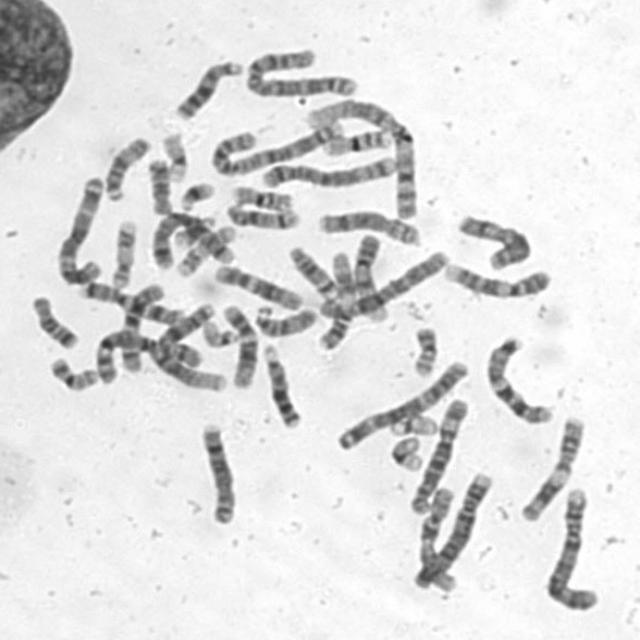A1: (305, 100, 417, 220), (95, 329, 228, 392)
A2: (210, 120, 345, 177), (245, 50, 357, 96)
A3: (338, 360, 470, 450), (56, 176, 105, 286)
B4: (413, 471, 493, 589), (546, 487, 598, 610)
B5: (152, 212, 238, 270), (260, 154, 397, 190)
C10: (418, 486, 456, 593), (120, 284, 165, 373)
C11: (521, 416, 588, 521), (319, 250, 354, 350)
C12: (214, 265, 304, 311), (222, 304, 259, 388)
C6: (319, 251, 449, 319), (408, 398, 467, 514)
C7: (485, 336, 553, 424), (76, 283, 185, 328)
C8: (319, 210, 421, 247), (201, 424, 235, 525)
C9: (444, 264, 550, 297), (354, 234, 387, 322)
D13: (175, 60, 244, 120), (262, 342, 300, 428)
D14: (288, 246, 338, 302), (224, 206, 297, 229)
D15: (104, 137, 152, 202), (254, 304, 318, 338)
E16: (320, 128, 393, 158), (230, 186, 292, 214)
E17: (176, 224, 238, 276), (112, 221, 139, 289)
E18: (32, 295, 76, 349), (147, 158, 173, 214)
F19: (160, 132, 188, 181), (390, 435, 424, 471)
F20: (49, 356, 99, 392), (414, 326, 439, 376)
G21: (172, 215, 217, 254), (180, 182, 214, 212)
G22: (388, 413, 438, 438), (202, 320, 240, 347)
X: (156, 302, 217, 368), (458, 216, 531, 270)
